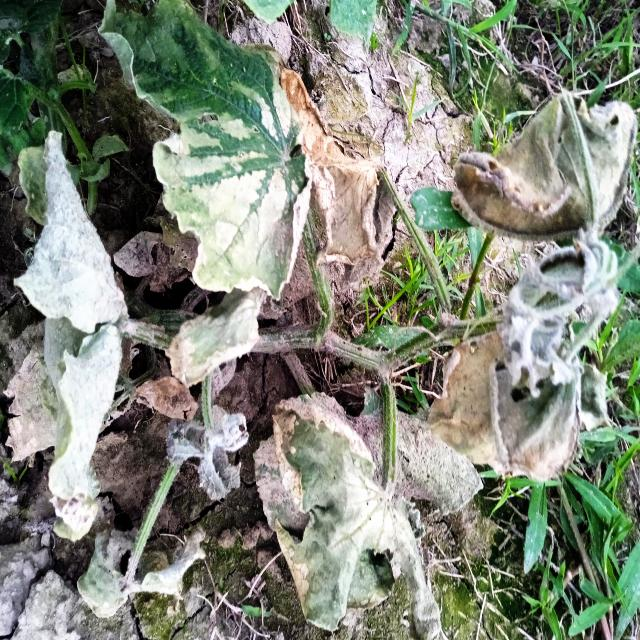Bacterial-Wilt: (254, 392, 445, 640), (17, 135, 127, 549), (446, 84, 640, 244), (279, 62, 401, 296)
